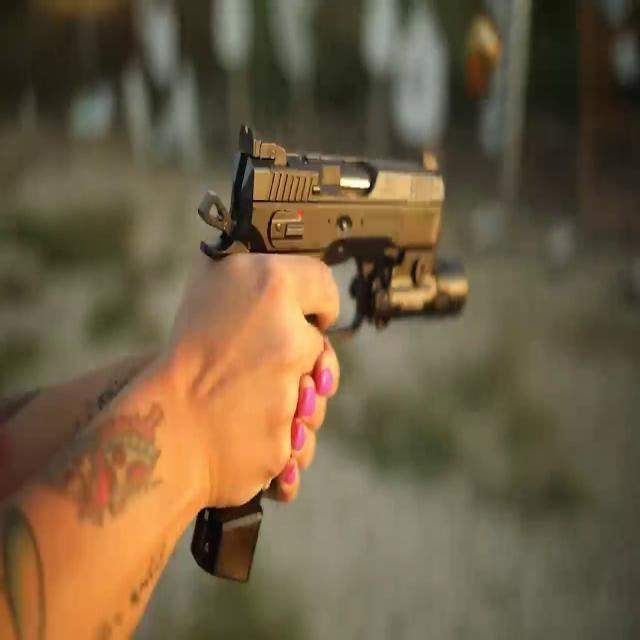Handgun: (152, 122, 484, 598)
